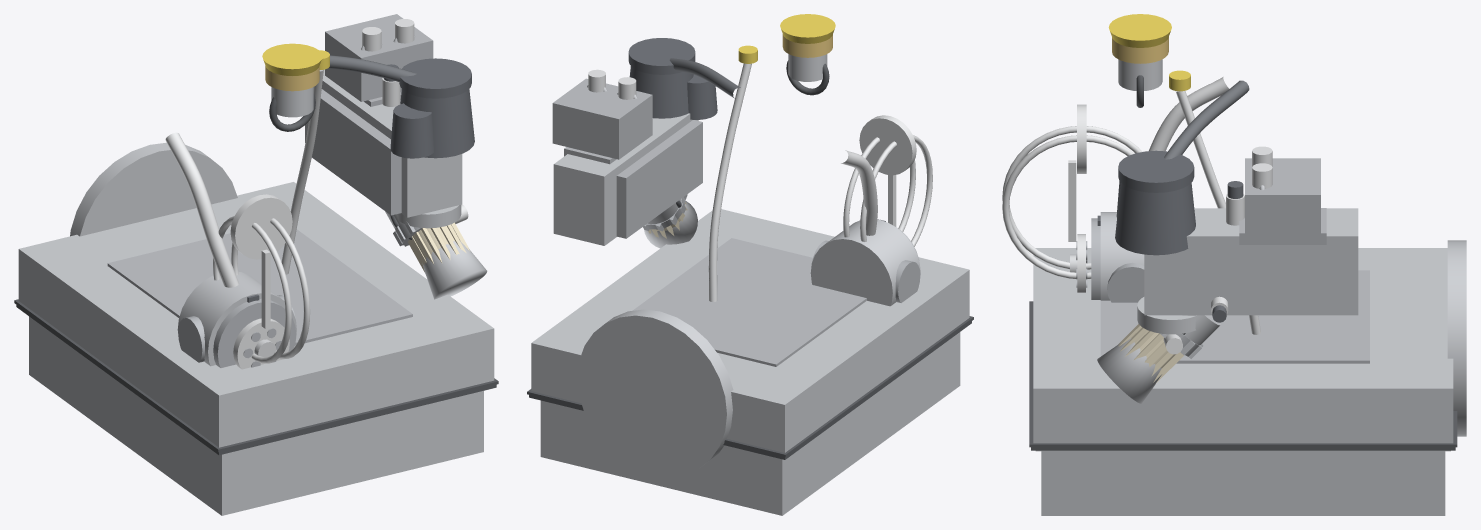
File: oil.glb
The picture shows the model from 3 angles, left to right: view 1: azimuth 30°, elevation 25°; view 2: azimuth 150°, elevation 25°; view 3: azimuth 270°, elevation 25°; orthographic projection. The views are drawn at different scales.
Parts seen in each view (by area): view 1: oilSumpUpperPart, sumpBody, sumpUpperVoid, sealingFlange, conductFlange, conductBody, coolerBody, pumpBody, separatorBody, crankSprocket, sumpSealBeadOuter, oilPipe (+17 smaller); view 2: oilSumpUpperPart, sealingFlange, sumpBody, sumpUpperVoid, conductBody, conductFlange, coolerBody, pumpBody, crankSprocket, dipstickTube, separatorBody, separatorCap (+12 smaller); view 3: oilSumpUpperPart, sumpBody, conductBody, sumpUpperVoid, coolerBody, separatorBody, sealingFlange, sumpSealBeadOuter, separatorCap, filterCoverDome, chainRunR, fillerCapGrip (+17 smaller).
Boxes of the visible parts, x1=… form: oilSumpUpperPart: x1=18, y1=182, x2=494, y2=447; sumpBody: x1=29, y1=316, x2=483, y2=515; sumpUpperVoid: x1=107, y1=229, x2=412, y2=345; sealingFlange: x1=70, y1=142, x2=237, y2=236; conductFlange: x1=308, y1=89, x2=401, y2=215; conductBody: x1=305, y1=69, x2=462, y2=217; coolerBody: x1=325, y1=14, x2=433, y2=101; pumpBody: x1=177, y1=272, x2=296, y2=366; separatorBody: x1=400, y1=89, x2=474, y2=158; crankSprocket: x1=230, y1=194, x2=292, y2=259; sumpSealBeadOuter: x1=14, y1=299, x2=498, y2=452; oilPipe: x1=165, y1=132, x2=238, y2=287; oilSumpUpperPart: x1=531, y1=209, x2=969, y2=452; sealingFlange: x1=577, y1=309, x2=733, y2=476; sumpBody: x1=540, y1=332, x2=960, y2=515; sumpUpperVoid: x1=633, y1=238, x2=866, y2=366; conductBody: x1=553, y1=113, x2=698, y2=245; conductFlange: x1=616, y1=120, x2=702, y2=238; coolerBody: x1=552, y1=78, x2=652, y2=159; pumpBody: x1=810, y1=219, x2=920, y2=306; crankSprocket: x1=859, y1=115, x2=916, y2=175; dipstickTube: x1=708, y1=63, x2=751, y2=301; separatorBody: x1=629, y1=66, x2=693, y2=118; separatorCap: x1=628, y1=38, x2=695, y2=74; oilSumpUpperPart: x1=1033, y1=248, x2=1453, y2=443; sumpBody: x1=1041, y1=451, x2=1445, y2=515; conductBody: x1=1144, y1=208, x2=1358, y2=315; sumpUpperVoid: x1=1100, y1=270, x2=1369, y2=363; coolerBody: x1=1245, y1=158, x2=1320, y2=240; separatorBody: x1=1115, y1=183, x2=1195, y2=255; sealingFlange: x1=1447, y1=240, x2=1466, y2=436; sumpSealBeadOuter: x1=1029, y1=301, x2=1457, y2=447; separatorCap: x1=1118, y1=150, x2=1194, y2=192; filterCoverDome: x1=1097, y1=338, x2=1161, y2=403; chainRunR: x1=1002, y1=135, x2=1134, y2=278; fillerCapGrip: x1=1108, y1=14, x2=1171, y2=47.
Bounding box in the file's own units: 2.46 × 3.07 × 2.93.
